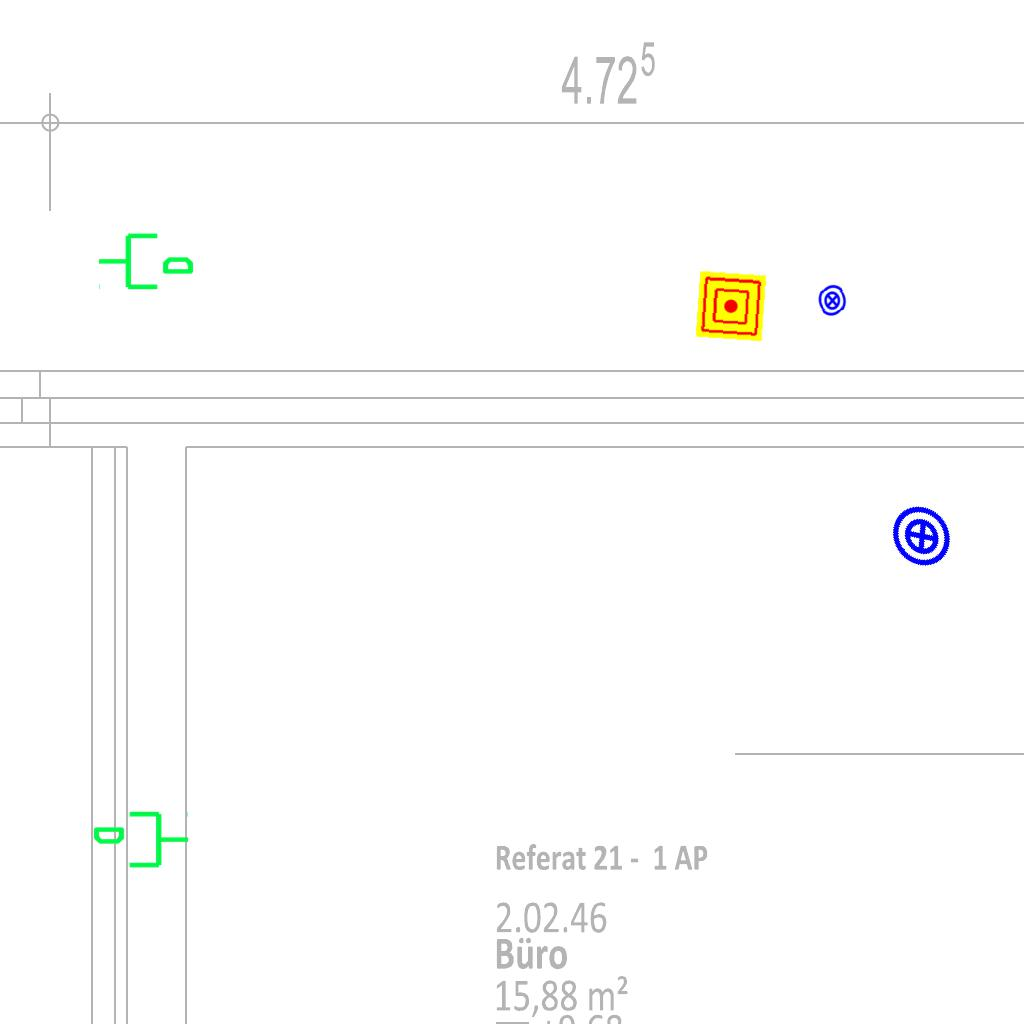Datenanschluss_einfach: (96, 225, 196, 294), (91, 807, 191, 876)
NAM-Nichtautomatischer_Melder: (695, 270, 767, 342)
Taster_beleuchtet: (875, 489, 969, 583), (815, 283, 850, 318)
